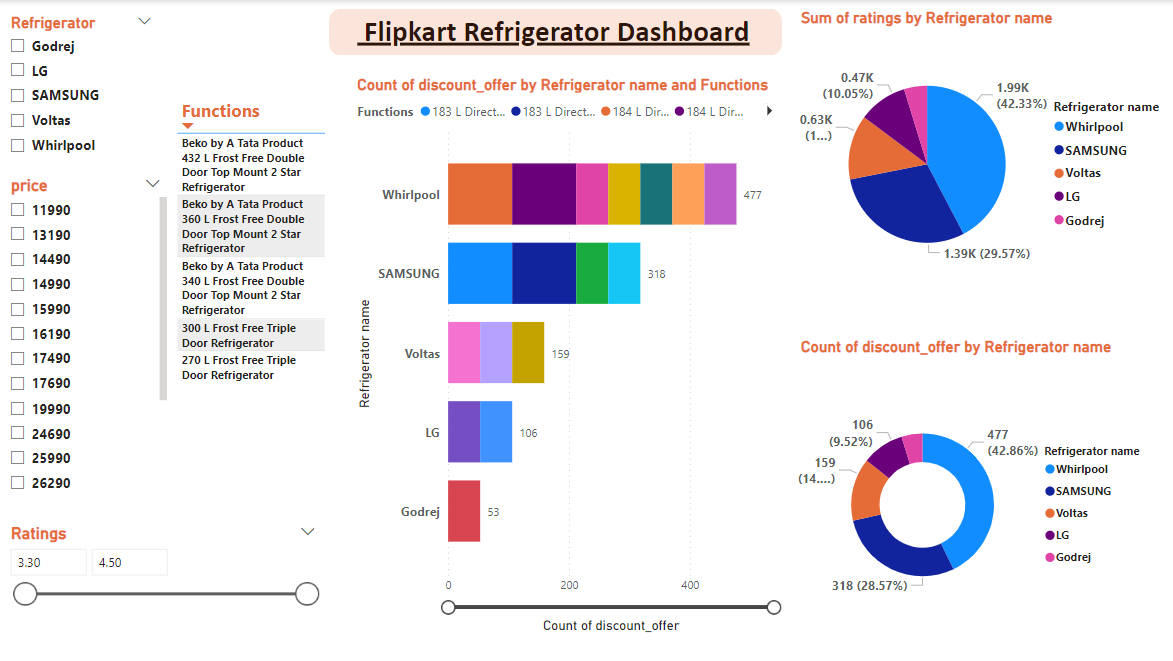

What the dashboard file says about the page in this screenshot:
{"tool":"powerbi","page":{"name":"Page 1","canvas":[1280,720],"ordinal":0},"visuals":[{"type":"textbox","box":[383.9,9.6,523.7,50.7],"z":0},{"type":"shape","box":[357.8,9.6,492.2,50.7],"z":1000},{"type":"slicer","fields":{"Values":["New sql Data - Refrigerator.Refrigerator name"]},"box":[0,9.5,177.9,182],"z":2000},{"type":"slicer","fields":{"Values":["New sql Data - Refrigerator.price"]},"box":[0,186,187.4,361.2],"z":3000},{"type":"tableEx","fields":{"Values":["New sql Data - Refrigerator.Functions"]},"box":[187.4,100.5,180.6,330],"z":4000},{"type":"slicer","fields":{"Values":["New sql Data - Refrigerator.ratings"]},"box":[0,563.6,355.8,156.2],"z":5000},{"type":"donutChart","fields":{"Category":["New sql Data - Refrigerator.Refrigerator name"],"Y":["CountNonNull(New sql Data - Refrigerator.discount_offer)"]},"box":[866.4,366.6,399.2,344.9],"z":6000},{"type":"barChart","fields":{"Category":["New sql Data - Refrigerator.Refrigerator name"],"Y":["CountNonNull(New sql Data - Refrigerator.discount_offer)"],"Series":["New sql Data - Refrigerator.Functions"]},"box":[384.3,81.5,472.6,609.7],"z":7000},{"type":"pieChart","fields":{"Category":["New sql Data - Refrigerator.Refrigerator name"],"Y":["Sum(New sql Data - Refrigerator.ratings)"]},"box":[866.4,9.5,414.2,319.1],"z":8000}]}

Visuals, with their boxes in screenshot pixels (x1, y1, x2, y2), scaled from the page's 1280x720 canvas onto the 1173x661 screenshot:
textbox: detection(352, 9, 832, 55)
shape: detection(328, 9, 779, 55)
slicer - New sql Data - Refrigerator.Refrigerator name: detection(0, 9, 163, 176)
slicer - New sql Data - Refrigerator.price: detection(0, 171, 172, 502)
tableEx - New sql Data - Refrigerator.Functions: detection(172, 92, 337, 395)
slicer - New sql Data - Refrigerator.ratings: detection(0, 517, 326, 660)
donutChart - New sql Data - Refrigerator.Refrigerator name x CountNonNull(New sql Data - Refrigerator.discount_offer): detection(794, 337, 1160, 653)
barChart - New sql Data - Refrigerator.Refrigerator name x CountNonNull(New sql Data - Refrigerator.discount_offer): detection(352, 75, 785, 635)
pieChart - New sql Data - Refrigerator.Refrigerator name x Sum(New sql Data - Refrigerator.ratings): detection(794, 9, 1172, 302)
